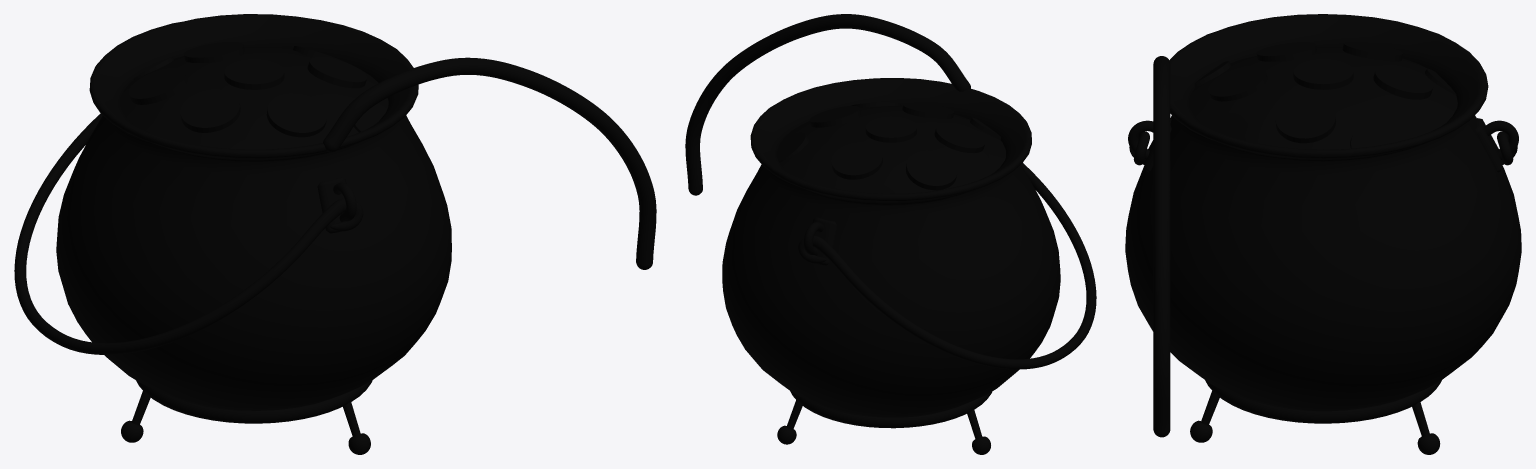
The model's file is Tsubom.fbx.
The picture shows the model from 3 angles, left to right: view 1: azimuth 30°, elevation 25°; view 2: azimuth 150°, elevation 25°; view 3: azimuth 270°, elevation 25°; orthographic projection. The views are drawn at different scales.
Visible parts, largest first — view 1: node_id30, root; view 2: node_id30, root; view 3: node_id30, root.
Part boxes in pixels (x1,y1,x2,y2): node_id30: [14, 14, 451, 454]; root: [323, 57, 656, 269]; node_id30: [722, 78, 1096, 454]; root: [685, 14, 970, 195]; node_id30: [1125, 14, 1521, 454]; root: [1153, 56, 1170, 437].
Bounding box in the file's own units: 0.7119 × 0.5026 × 0.4611.
Materials: 2 (1 with a texture image).
